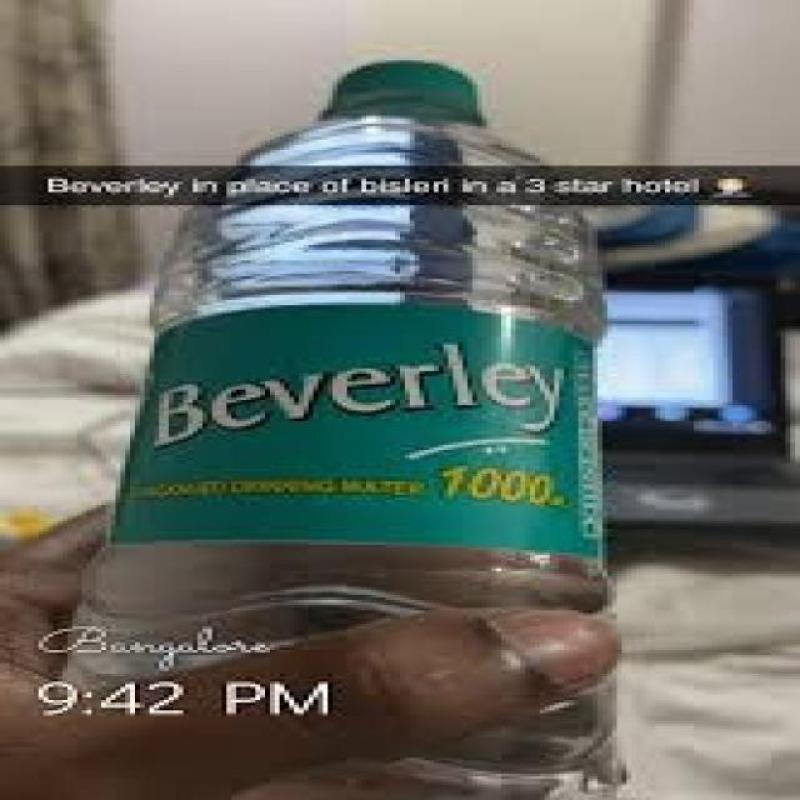botella: (48, 62, 626, 800)
